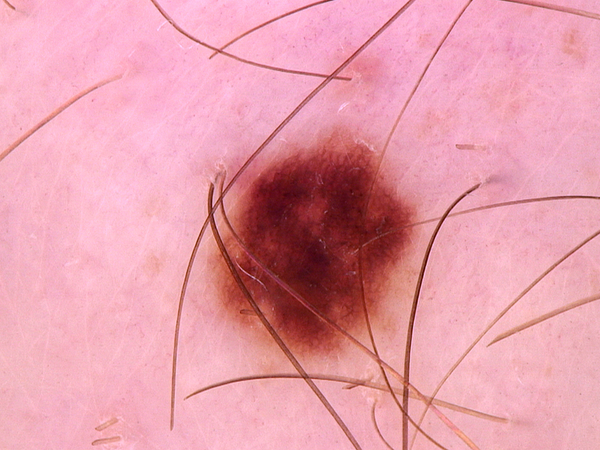Detected Lesion: (203, 127, 414, 373)
